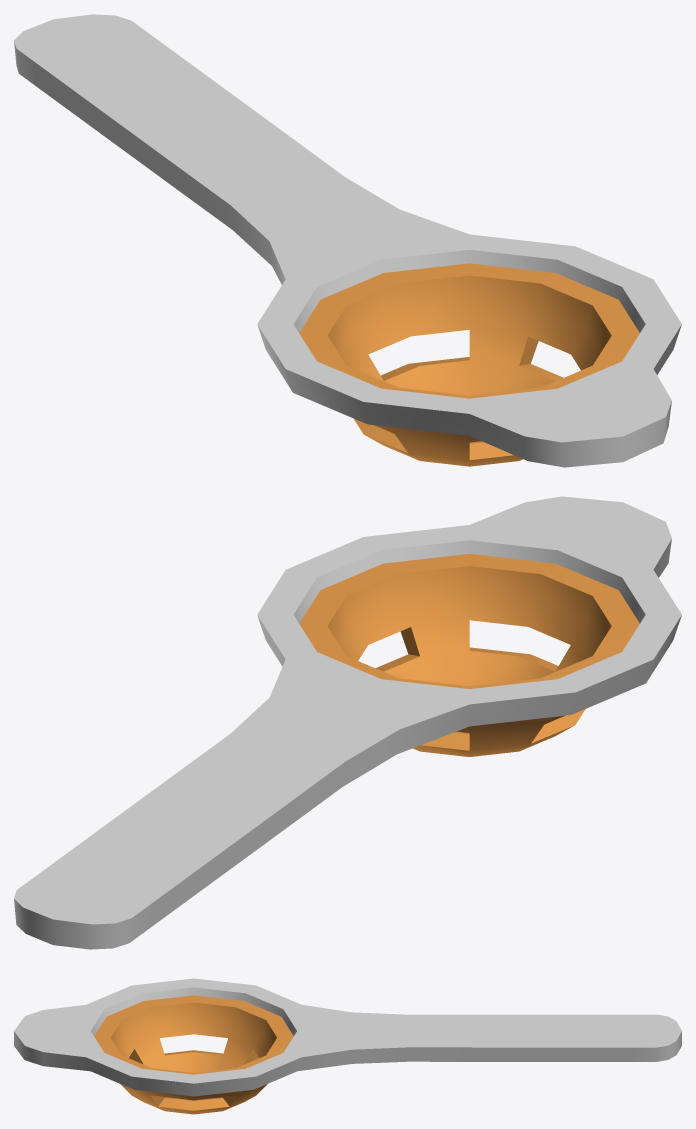
The model's file is EggSeparator_01.fbx.
3 views of the same model, one above another, from view 1: azimuth 30°, elevation 25°; view 2: azimuth 150°, elevation 25°; view 3: azimuth 270°, elevation 25° (orthographic). The views are drawn at different scales.
Visible parts, largest first — view 1: EggSeparator_01; view 2: EggSeparator_01; view 3: EggSeparator_01.
Part boxes in pixels (x1,y1,x2,y2): EggSeparator_01: (14,14,681,467); EggSeparator_01: (14,496,681,949); EggSeparator_01: (14,978,681,1114).
Size of the model in its own units: 0.0761 by 0.0237 by 0.2043.
